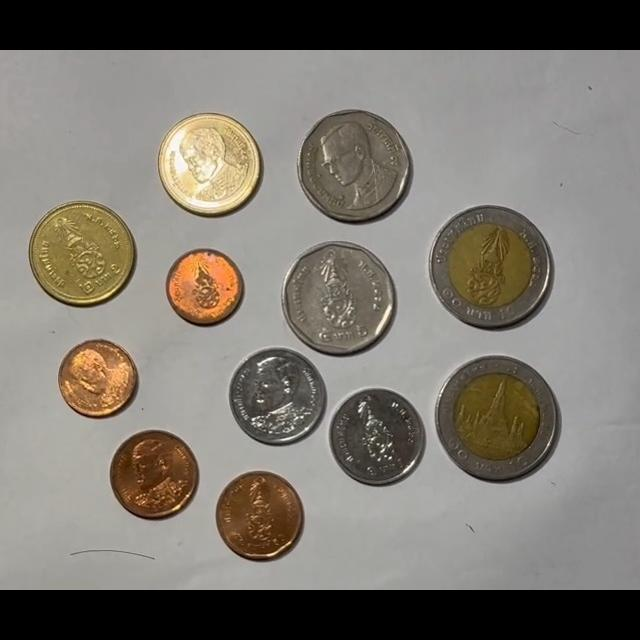1-baht: (328, 387, 426, 485), (229, 347, 326, 445)
10-baht: (434, 357, 559, 482), (428, 205, 554, 329)
2-baht: (29, 201, 135, 307), (158, 112, 263, 217)
25-satang: (59, 339, 138, 418), (166, 248, 245, 325)
5-baht: (282, 240, 397, 355), (297, 109, 412, 223)
50-satang: (215, 471, 304, 560), (110, 430, 199, 518)
